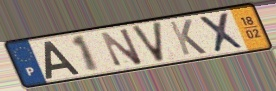1: (70, 33, 101, 75)
A: (43, 39, 82, 81)
K: (167, 17, 209, 57)
N: (98, 26, 146, 68)
V: (128, 19, 166, 64)
X: (196, 11, 247, 54)
